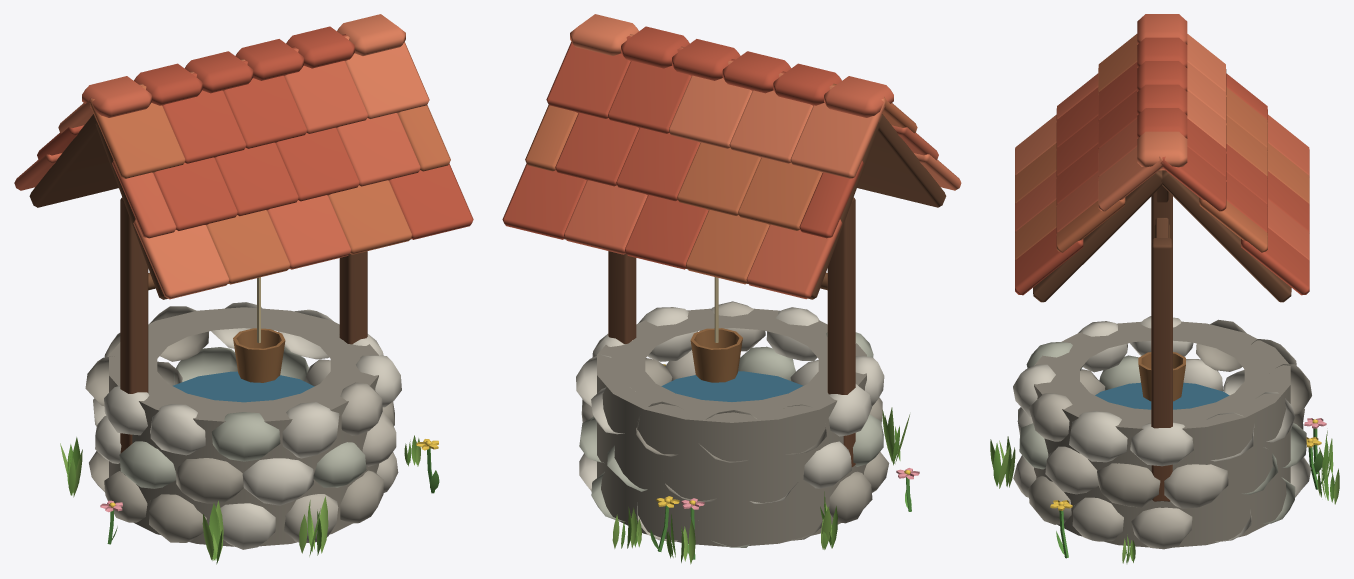
The model's file is well.glb.
3 views of the same model, side by side, from view 1: azimuth 30°, elevation 25°; view 2: azimuth 150°, elevation 25°; view 3: azimuth 270°, elevation 25° (orthographic). The views are drawn at different scales.
Visible parts, largest first — view 1: Well; view 2: Well; view 3: Well.
Part boxes in pixels (x1=…): Well: x1=14, y1=14, x2=473, y2=564; Well: x1=502, y1=14, x2=961, y2=564; Well: x1=990, y1=14, x2=1339, y2=563.
Bounding box in the file's own units: 2.1 × 2.74 × 2.09.
